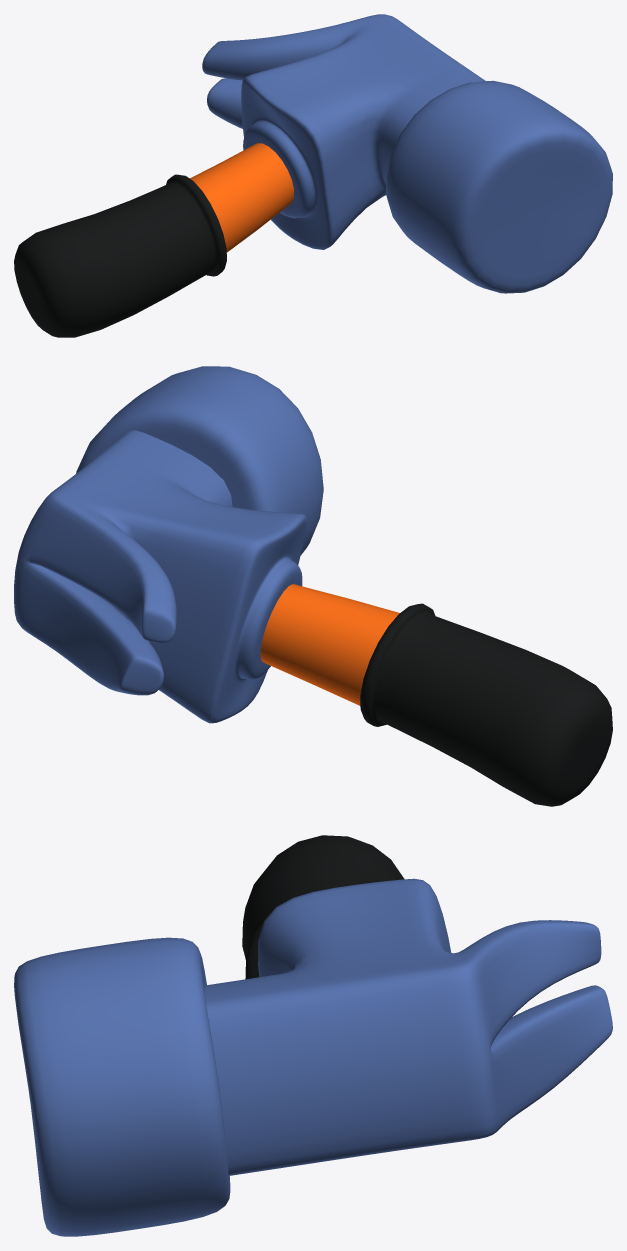
File: Hammer.fbx
3 renders of one model, top to bottom at view 1: azimuth 30°, elevation 25°; view 2: azimuth 150°, elevation 25°; view 3: azimuth 270°, elevation 25°, orthographic. The views are drawn at different scales.
Parts seen in each view (by area): view 1: Hammer; view 2: Hammer; view 3: Hammer.
Part boxes in pixels (x1,y1,x2,y2): Hammer: [14, 14, 612, 337]; Hammer: [14, 366, 612, 806]; Hammer: [14, 835, 612, 1236].
Size of the model in its own units: 173 by 126 by 68.11.
